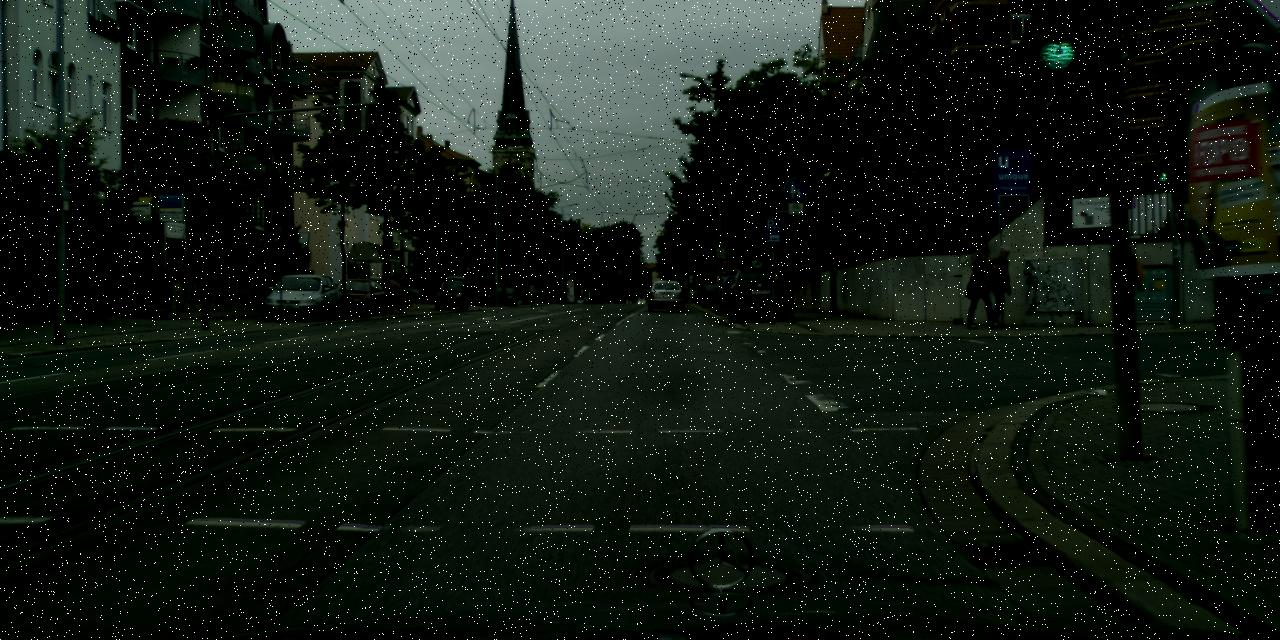ped: (984, 245, 1018, 327), (968, 246, 1000, 327)
